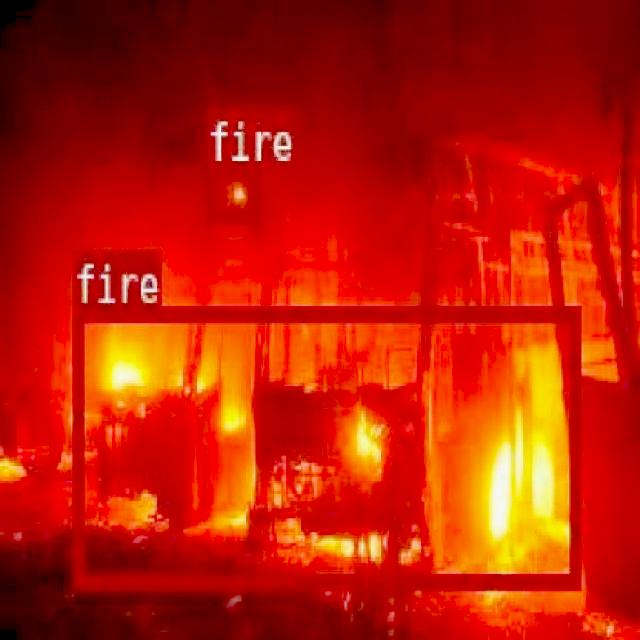fire: (72, 304, 578, 586), (206, 162, 257, 218)
